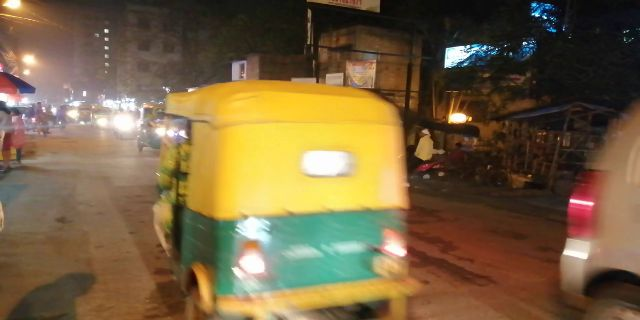Autorickshaw: (161, 76, 427, 300)
